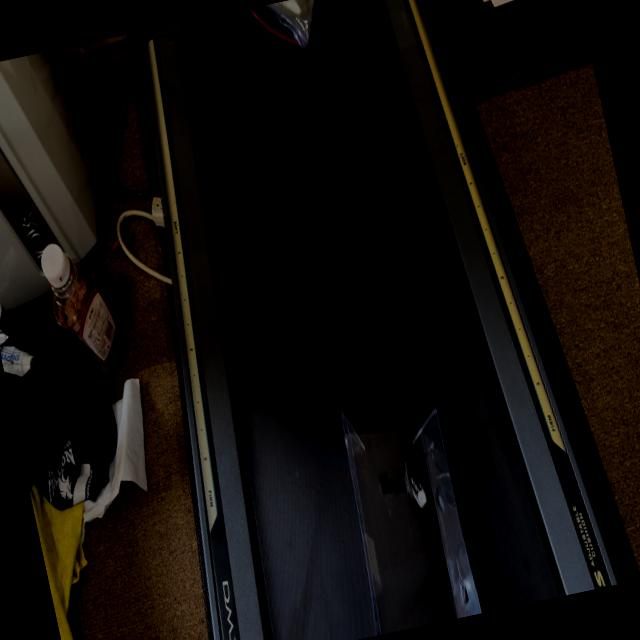Recycle: (330, 390, 482, 635), (245, 0, 331, 59)
